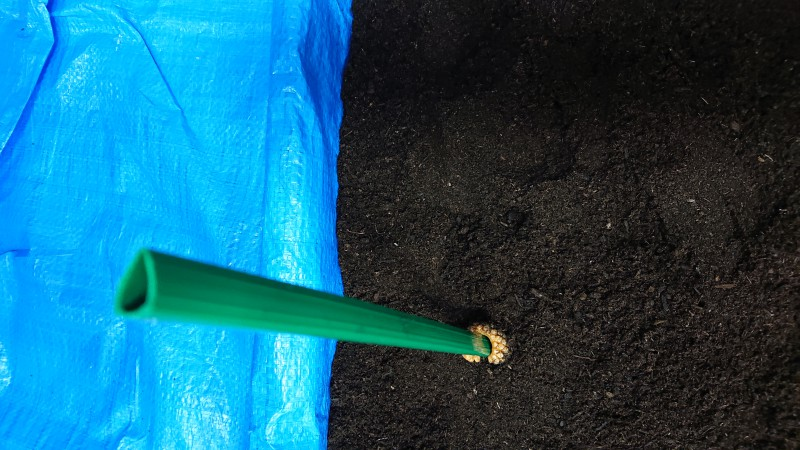eggs: (452, 321, 515, 370)
